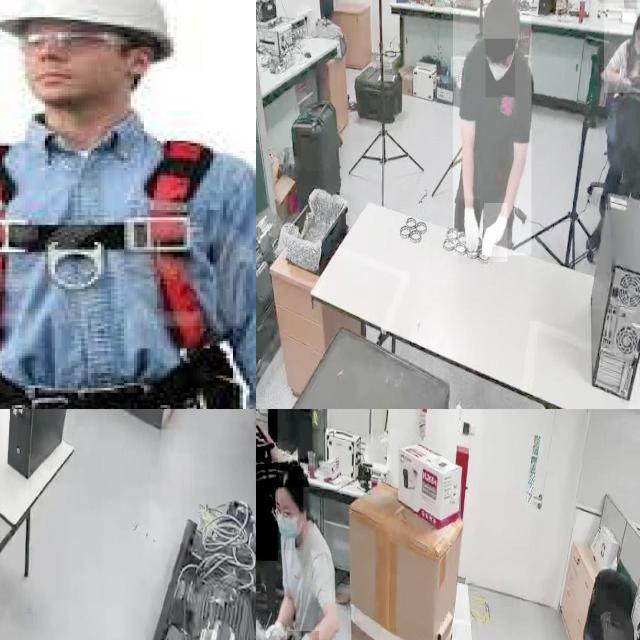Harness: (0, 139, 256, 409)
face_mask: (272, 483, 304, 550), (485, 39, 515, 97)
hand_glove: (484, 203, 508, 263), (458, 200, 480, 264)
hand_noglove: (256, 413, 272, 445)
head_nohelmet: (483, 0, 520, 39), (274, 458, 310, 488), (634, 7, 640, 30)
person: (453, 0, 532, 256), (261, 458, 341, 640), (256, 409, 278, 560), (604, 3, 640, 93)
